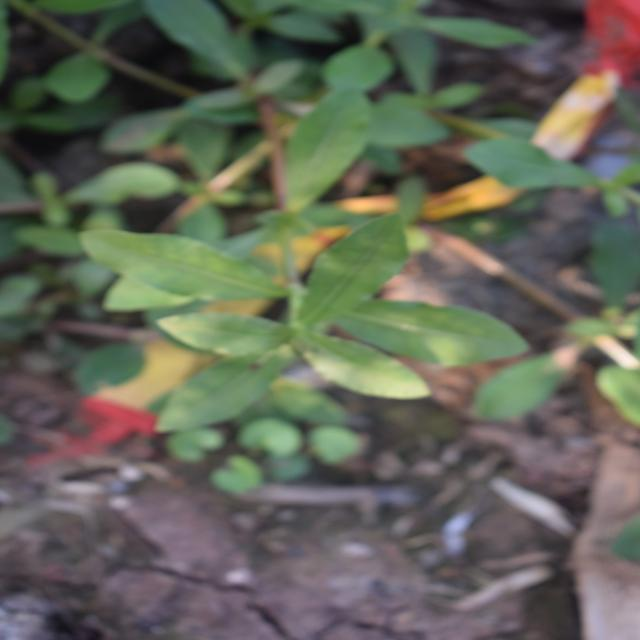Alligatorweed: (190, 128, 447, 562)
